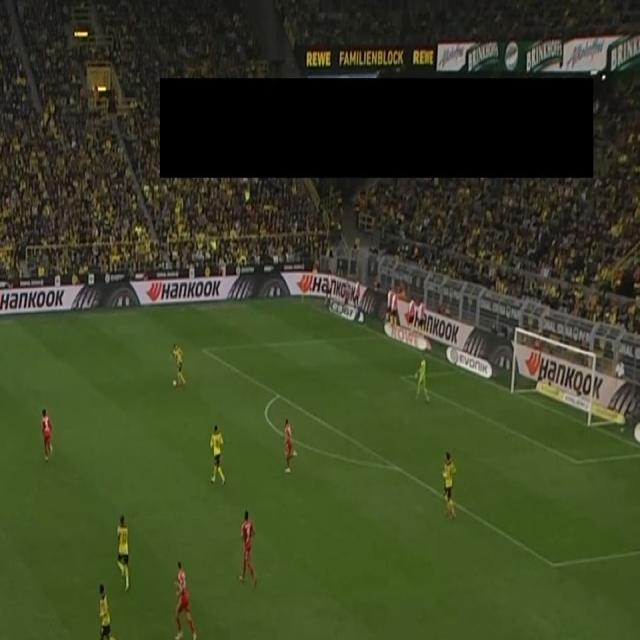ball: (172, 378, 178, 388)
